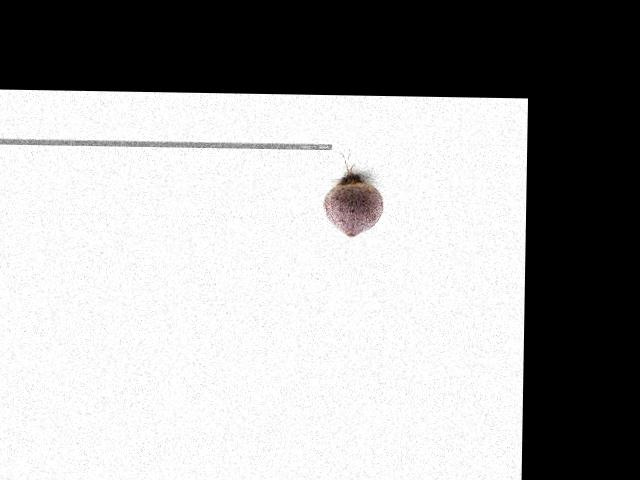beet: (321, 147, 384, 238)
